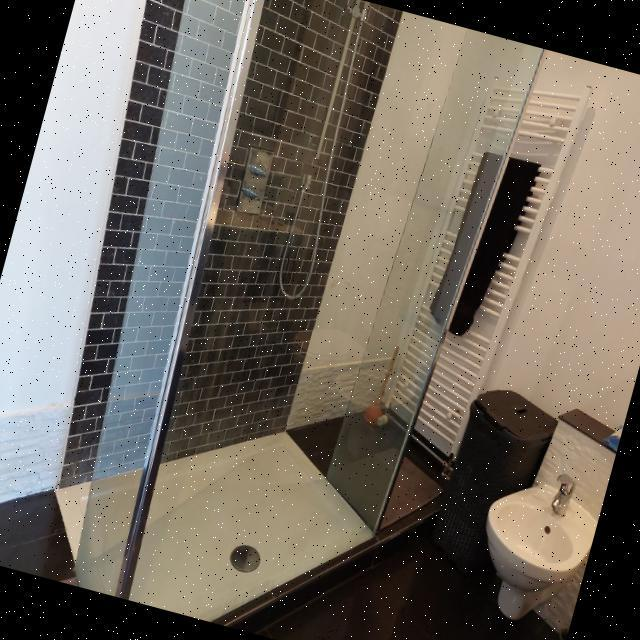designradiator: (360, 51, 596, 497)
douche: (0, 0, 545, 640)
toilet: (460, 452, 608, 636), (280, 312, 371, 398)
